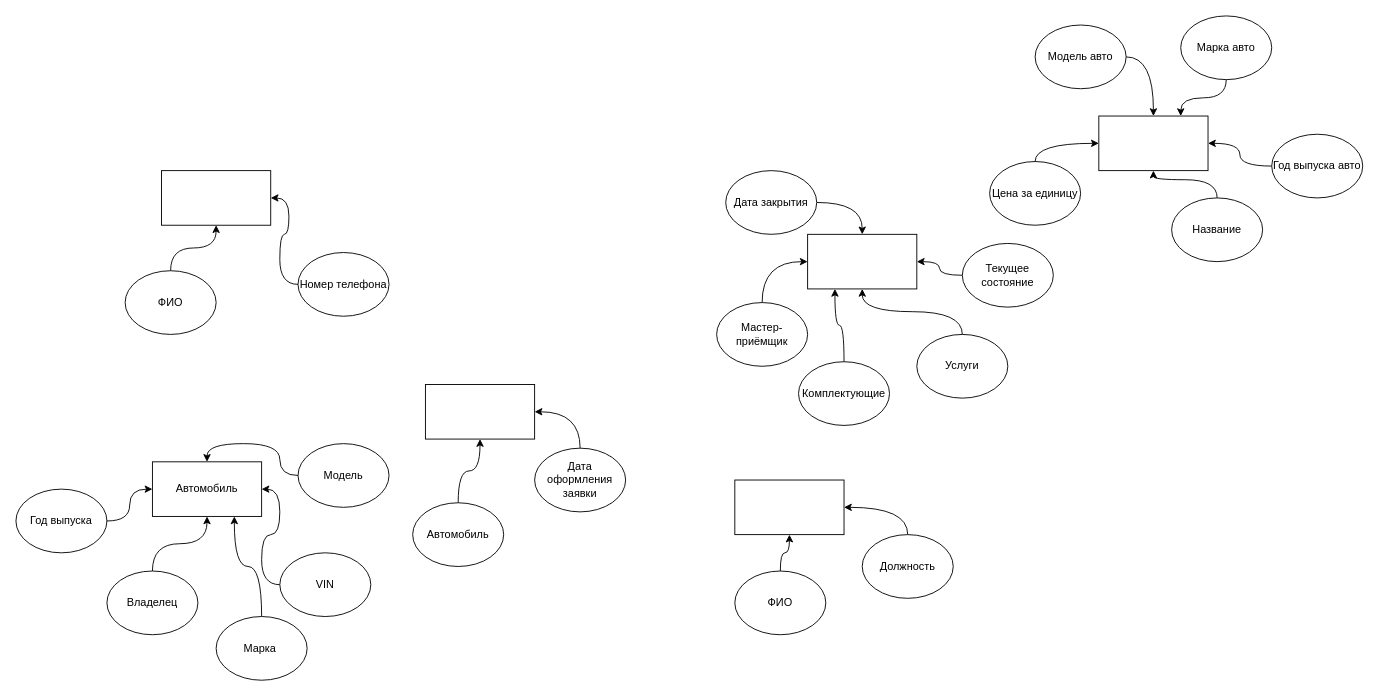
Image size: 1379x696. Some labels were removed from this diagram. The shapes that lost their labels are listed below. From the top down, each one's centre as x and y in pixels, then its label:
At point (1153, 143): "Каталог услуг".
At point (216, 197): "Клиент".
At point (862, 261): "Заказ-наряд".
At point (480, 411): "заявка".
At point (789, 507): "Персонал".
